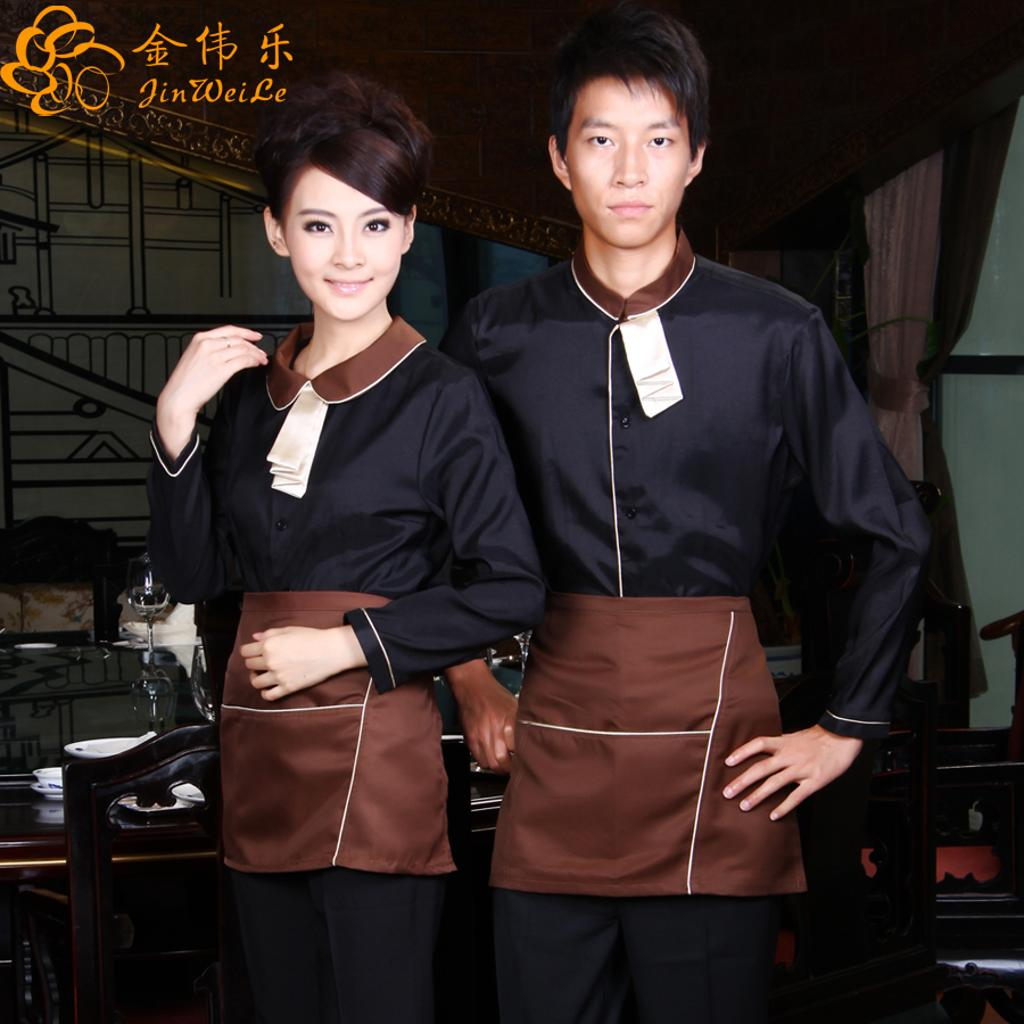face: (568, 76, 686, 246), (290, 162, 400, 322)
